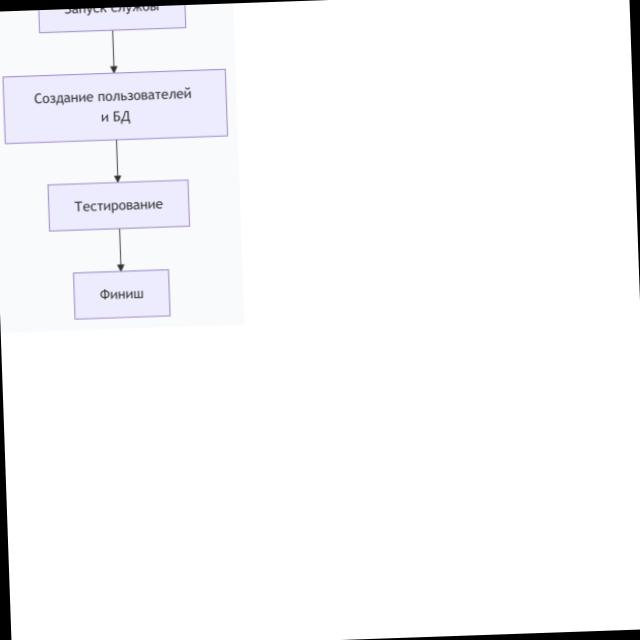arrow: (107, 32, 117, 72), (119, 229, 121, 260), (116, 140, 118, 171)
rectangle: (3, 68, 228, 145), (47, 179, 190, 231), (73, 269, 171, 320)
